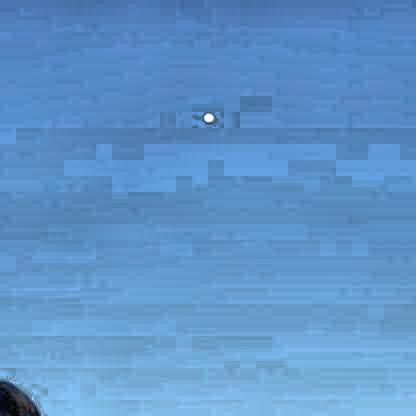golfball: (200, 107, 214, 121)
